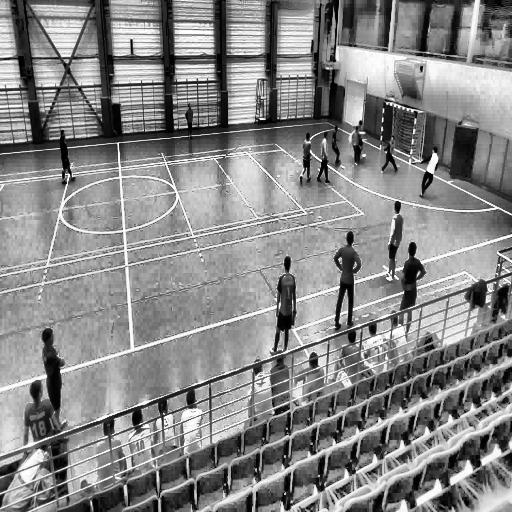ball: (361, 153, 367, 162)
player: (332, 229, 361, 330), (397, 242, 427, 335), (41, 327, 66, 430), (274, 254, 296, 357), (386, 200, 403, 280), (418, 146, 440, 201), (59, 128, 77, 185), (316, 130, 331, 184), (380, 134, 399, 176), (299, 130, 312, 186), (350, 123, 365, 166), (330, 126, 342, 166), (185, 102, 194, 139), (358, 118, 364, 154)
